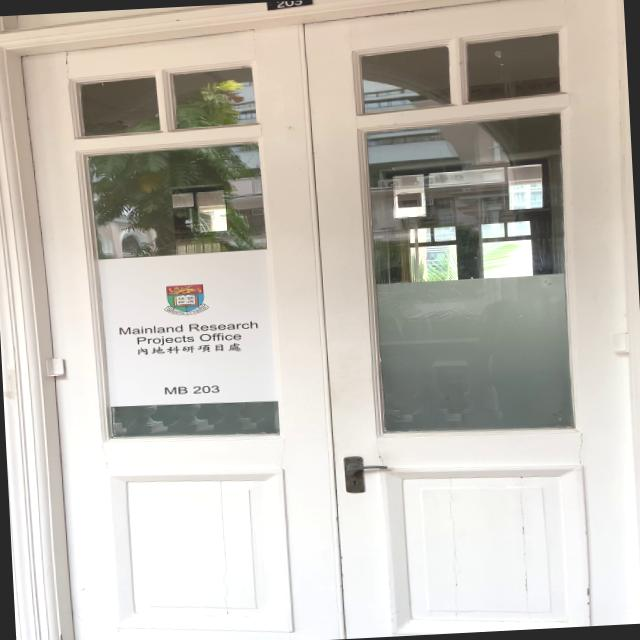room203Window: (156, 379, 226, 398)
